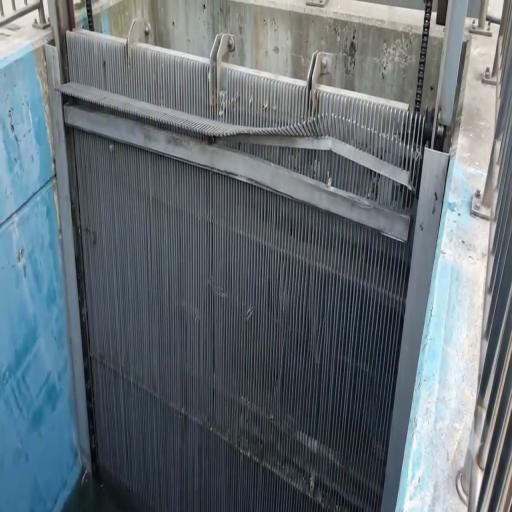rake_broken: (181, 97, 416, 196)
